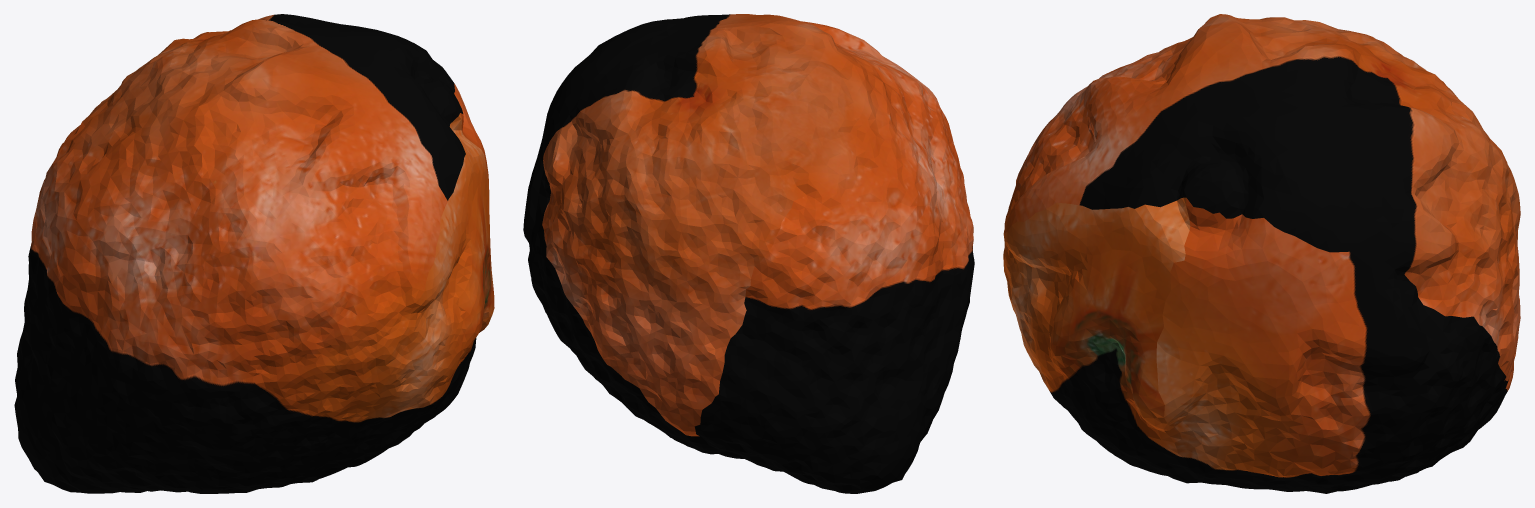
3 renders of one model, left to right at view 1: azimuth 30°, elevation 25°; view 2: azimuth 150°, elevation 25°; view 3: azimuth 270°, elevation 25°, orthographic. The views are drawn at different scales.
Visible parts, largest first — view 1: node; view 2: node; view 3: node.
Part boxes in pixels (x1,y1,x2,y2): node: (14, 14, 494, 493); node: (523, 14, 974, 493); node: (1003, 14, 1520, 493).
Bounding box in the file's own units: 0.0452 × 0.0453 × 0.0457.
